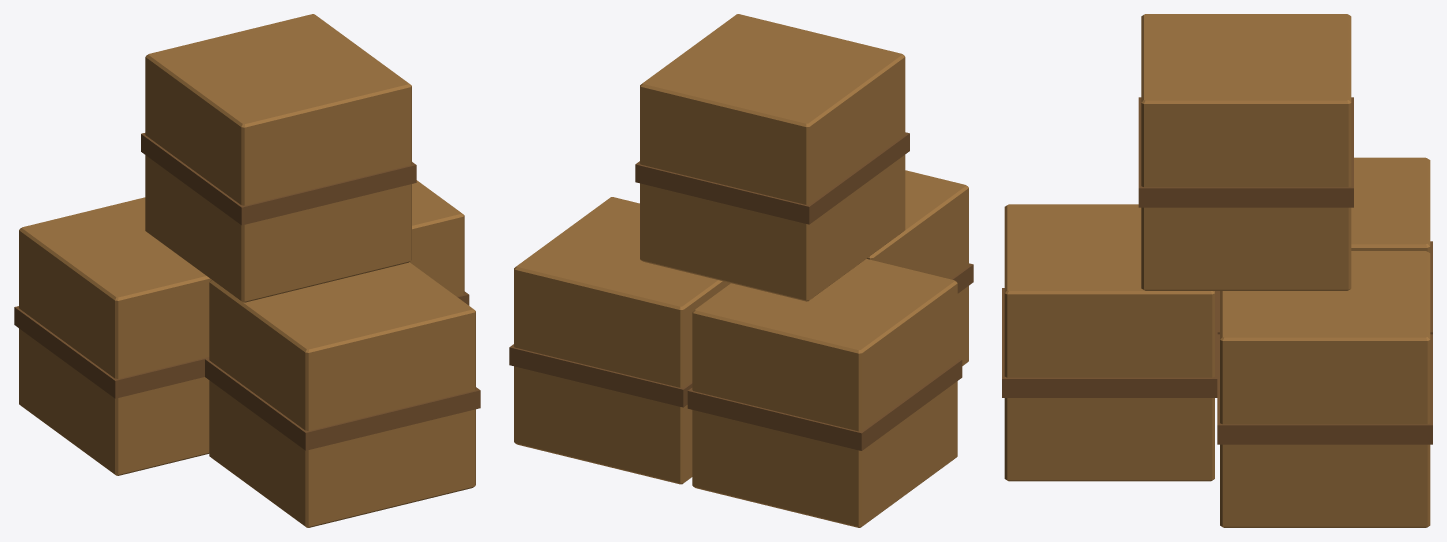
The model's file is crate_stack.glb.
3 views of the same model, side by side, from view 1: azimuth 30°, elevation 25°; view 2: azimuth 150°, elevation 25°; view 3: azimuth 270°, elevation 25° (orthographic). The views are drawn at different scales.
Visible parts, largest first — view 1: crate_stack; view 2: crate_stack; view 3: crate_stack.
Boxes of the visible parts, left/top/right/bottom form: crate_stack: left=14, top=14, right=480, bottom=527; crate_stack: left=509, top=14, right=973, bottom=527; crate_stack: left=1002, top=14, right=1432, bottom=527.
Bounding box in the file's own units: 1.66 × 1.6 × 1.64.
